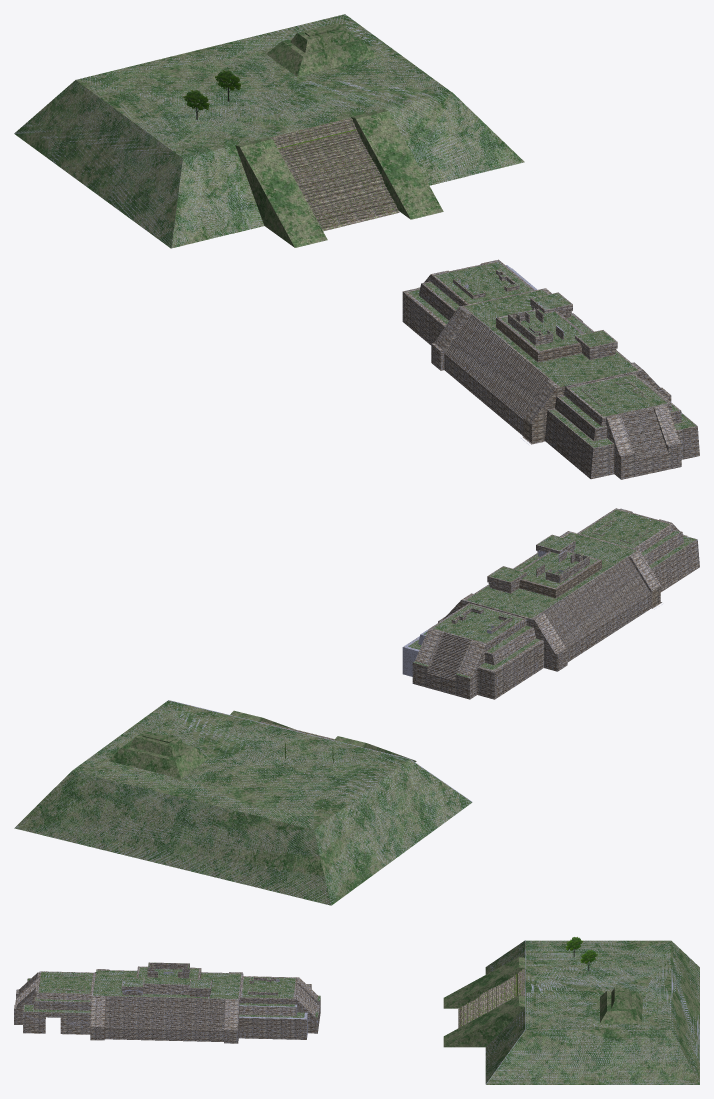
Rendered from prueba.obj.
The picture shows the model from 3 angles, top to bottom: view 1: azimuth 30°, elevation 25°; view 2: azimuth 150°, elevation 25°; view 3: azimuth 270°, elevation 25°; orthographic projection. The views are drawn at different scales.
Parts seen in each view (by area): view 1: Mesh12 Model, Mesh9 Model, Mesh2 Group4 Group3 Group2 Model, Mesh5 Group5 Model, Mesh6 Group6 Model, Mesh1 Group1 Model; view 2: Mesh12 Model, Mesh9 Model, Mesh1 Group1 Model; view 3: Mesh12 Model, Mesh9 Model, Mesh6 Group6 Model, Mesh5 Group5 Model, Mesh1 Group1 Model, Mesh2 Group4 Group3 Group2 Model.
Part boxes in pixels (x1=…): Mesh12 Model: x1=14, y1=14, x2=524, y2=248; Mesh9 Model: x1=402, y1=259, x2=699, y2=479; Mesh2 Group4 Group3 Group2 Model: x1=233, y1=119, x2=465, y2=233; Mesh5 Group5 Model: x1=235, y1=137, x2=327, y2=247; Mesh6 Group6 Model: x1=351, y1=109, x2=443, y2=219; Mesh1 Group1 Model: x1=266, y1=23, x2=377, y2=76; Mesh12 Model: x1=14, y1=700, x2=472, y2=905; Mesh9 Model: x1=402, y1=508, x2=699, y2=699; Mesh1 Group1 Model: x1=109, y1=730, x2=208, y2=778; Mesh12 Model: x1=485, y1=940, x2=699, y2=1084; Mesh9 Model: x1=14, y1=962, x2=320, y2=1043; Mesh6 Group6 Model: x1=443, y1=995, x2=525, y2=1047; Mesh5 Group5 Model: x1=443, y1=956, x2=525, y2=1008; Mesh1 Group1 Model: x1=600, y1=987, x2=642, y2=1023; Mesh2 Group4 Group3 Group2 Model: x1=458, y1=969, x2=522, y2=1027.
Bounding box in the file's own units: 98.19 × 25.46 × 242.
